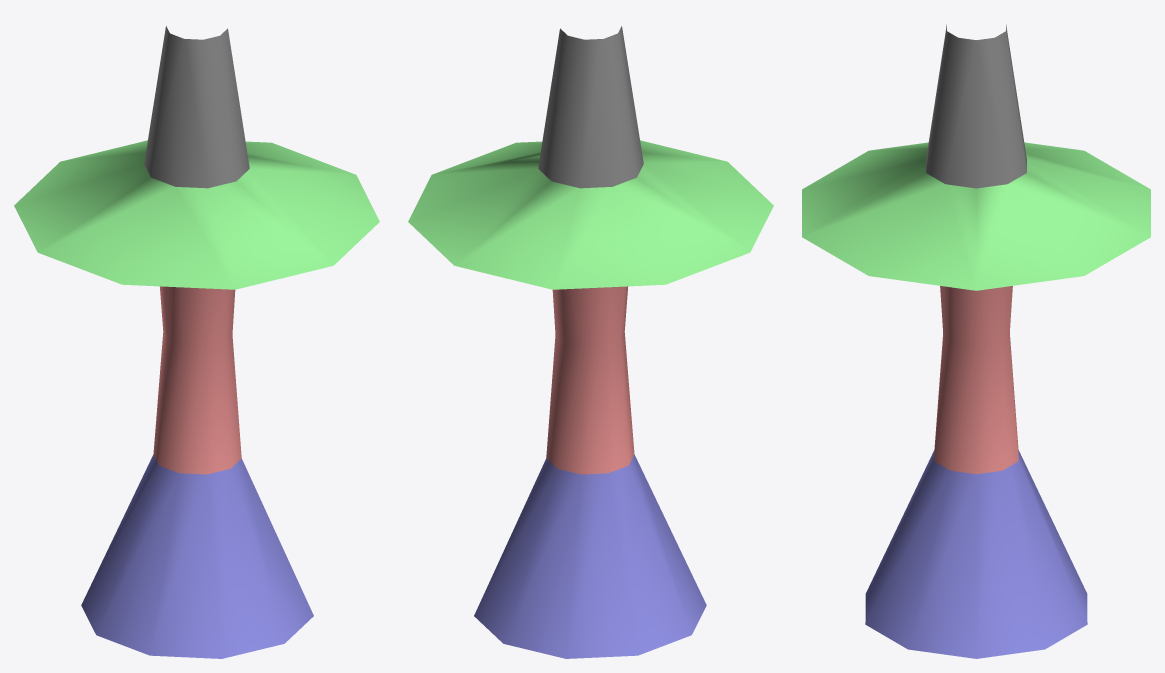
File: mush_piece_01.gltf
3 views of the same model, side by side, from view 1: azimuth 30°, elevation 25°; view 2: azimuth 150°, elevation 25°; view 3: azimuth 270°, elevation 25° (orthographic).
Visible parts, largest first — view 1: mush_piece_01; view 2: mush_piece_01; view 3: mush_piece_01.
Part boxes in pixels (x1,y1,x2,y2): mush_piece_01: (14,26,379,658); mush_piece_01: (408,26,773,658); mush_piece_01: (802,24,1150,658).
Size of the model in its own units: 2.6 by 4.56 by 2.48.
